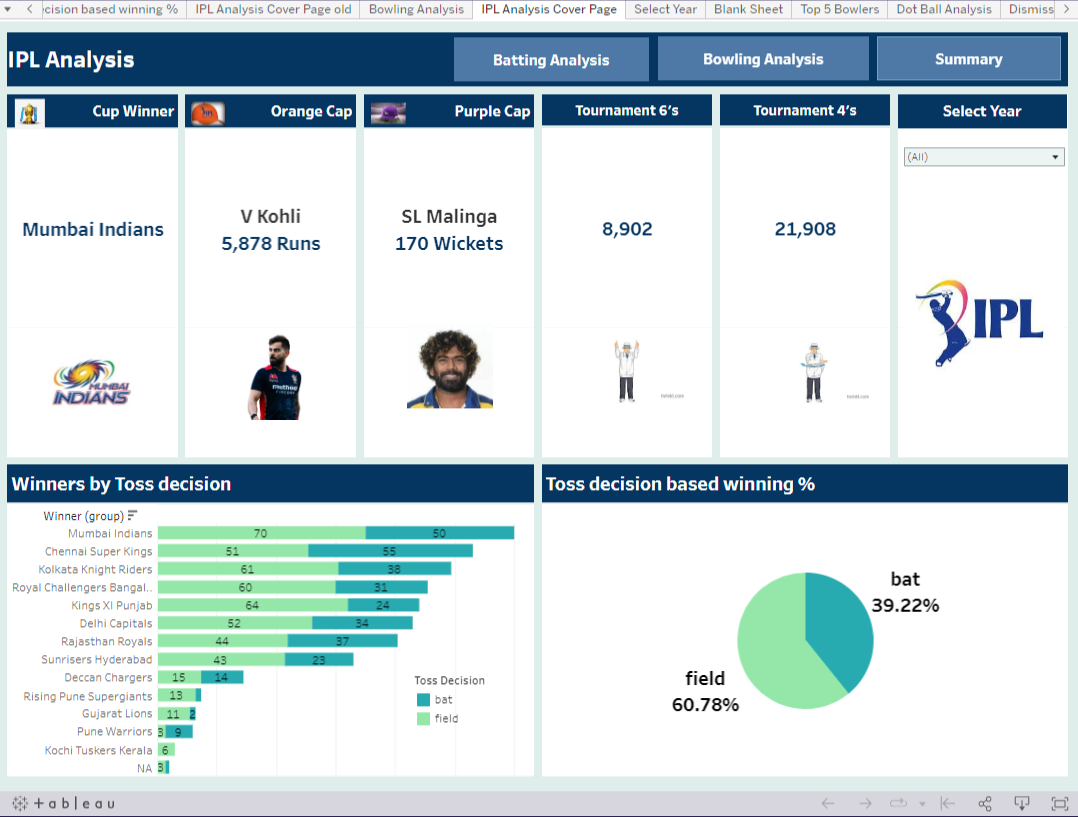

The dashboard page shown, as its layout file describes it:
{"tool":"tableau","page":{"name":"IPL Analysis Cover Page","canvas":[1155,818],"ordinal":2},"visuals":[{"type":"title","box":[8,8,1139,66]},{"type":"dashboard-object","box":[706,16,225,47]},{"type":"dashboard-object","box":[940,16,196,47]},{"type":"dashboard-object","box":[488,17,208,47]},{"type":"worksheet","title":"Cup Winner","mark":"Automatic","box":[8,74,190,253]},{"type":"worksheet","title":"Orange Cap","mark":"Automatic","box":[198,74,190,253]},{"type":"worksheet","title":"Purple Cap","mark":"Automatic","box":[388,74,190,253]},{"type":"worksheet","title":"Tournament 6's","mark":"Automatic","box":[578,74,190,253]},{"type":"worksheet","title":"Tournament 4's","mark":"Automatic","box":[768,74,190,253]},{"type":"worksheet","title":"Select Year","mark":"Automatic","box":[958,74,189,253]},{"type":"image","param":"Image/orange cap.jpg","box":[208,82,36,34]},{"type":"image","param":"Image/trophy.jpg","box":[16,83,40,33]},{"type":"image","param":"Image/purple cap.jpg","box":[400,83,37,32]},{"type":"filter","title":"Team Logo","param":"[federated.0ijl11205754pt1ax45dh0u8k6u3].[yr:date:ok]","box":[967.1,135,173.5,95]},{"type":"image","param":"Image/IPL.jpg","box":[969.2,196,169.2,262]},{"type":"worksheet","title":"Orange Cap images","mark":"Shape","box":[200.2,197,181.5,365]},{"type":"worksheet","title":"Team Logo","mark":"Shape","box":[10.8,206,180.7,353]},{"type":"worksheet","title":"Purple Cap Images","mark":"Shape","box":[391.7,217,182.9,299]},{"type":"image","param":"Image/six2.jpg","box":[603.2,287.1,139.9,173.4]},{"type":"image","param":"Image/four.jpg","box":[806.4,297.9,133.3,155.3]},{"type":"blank","box":[8,327,190,142]},{"type":"blank","box":[198,327,190,142]},{"type":"blank","box":[388,327,190,142]},{"type":"blank","box":[578,327,190,142]},{"type":"blank","box":[768,327,190,142]},{"type":"worksheet","title":"Blank Sheet","mark":"Automatic","box":[958,327,189,142]},{"type":"worksheet","title":"Winners by Toss decision","mark":"Bar","cols":["winner"],"box":[8,469,570,341]},{"type":"worksheet","title":"Toss decision based winning %","mark":"Pie","box":[578,469,569,341]},{"type":"legend","title":"Winners by Toss decision","param":"[federated.0ijl11205754pt1ax45dh0u8k6u3].[none:toss_decision:nk]","box":[446.4,695,124.6,107]}]}

Visuals, with their boxes on the page's 1155x818 design canvas (x1, y1, x2, y2). These are canvas units, not pixel positions in the 1078x817 screenshot, which may show the page scaled, cropped or inside an application window:
title: BBox(8, 8, 1147, 74)
dashboard-object: BBox(706, 16, 931, 63)
dashboard-object: BBox(940, 16, 1136, 63)
dashboard-object: BBox(488, 17, 696, 64)
"Cup Winner" worksheet: BBox(8, 74, 198, 327)
"Orange Cap" worksheet: BBox(198, 74, 388, 327)
"Purple Cap" worksheet: BBox(388, 74, 578, 327)
"Tournament 6's" worksheet: BBox(578, 74, 768, 327)
"Tournament 4's" worksheet: BBox(768, 74, 958, 327)
"Select Year" worksheet: BBox(958, 74, 1147, 327)
image: BBox(208, 82, 244, 116)
image: BBox(16, 83, 56, 116)
image: BBox(400, 83, 437, 115)
"Team Logo" filter: BBox(967, 135, 1141, 230)
image: BBox(969, 196, 1138, 458)
"Orange Cap images" worksheet (Shape marks): BBox(200, 197, 382, 562)
"Team Logo" worksheet (Shape marks): BBox(11, 206, 192, 559)
"Purple Cap Images" worksheet (Shape marks): BBox(392, 217, 575, 516)
image: BBox(603, 287, 743, 460)
image: BBox(806, 298, 940, 453)
blank: BBox(8, 327, 198, 469)
blank: BBox(198, 327, 388, 469)
blank: BBox(388, 327, 578, 469)
blank: BBox(578, 327, 768, 469)
blank: BBox(768, 327, 958, 469)
"Blank Sheet" worksheet: BBox(958, 327, 1147, 469)
"Winners by Toss decision" worksheet (Bar marks): BBox(8, 469, 578, 810)
"Toss decision based winning %" worksheet (Pie marks): BBox(578, 469, 1147, 810)
"Winners by Toss decision" legend: BBox(446, 695, 571, 802)
